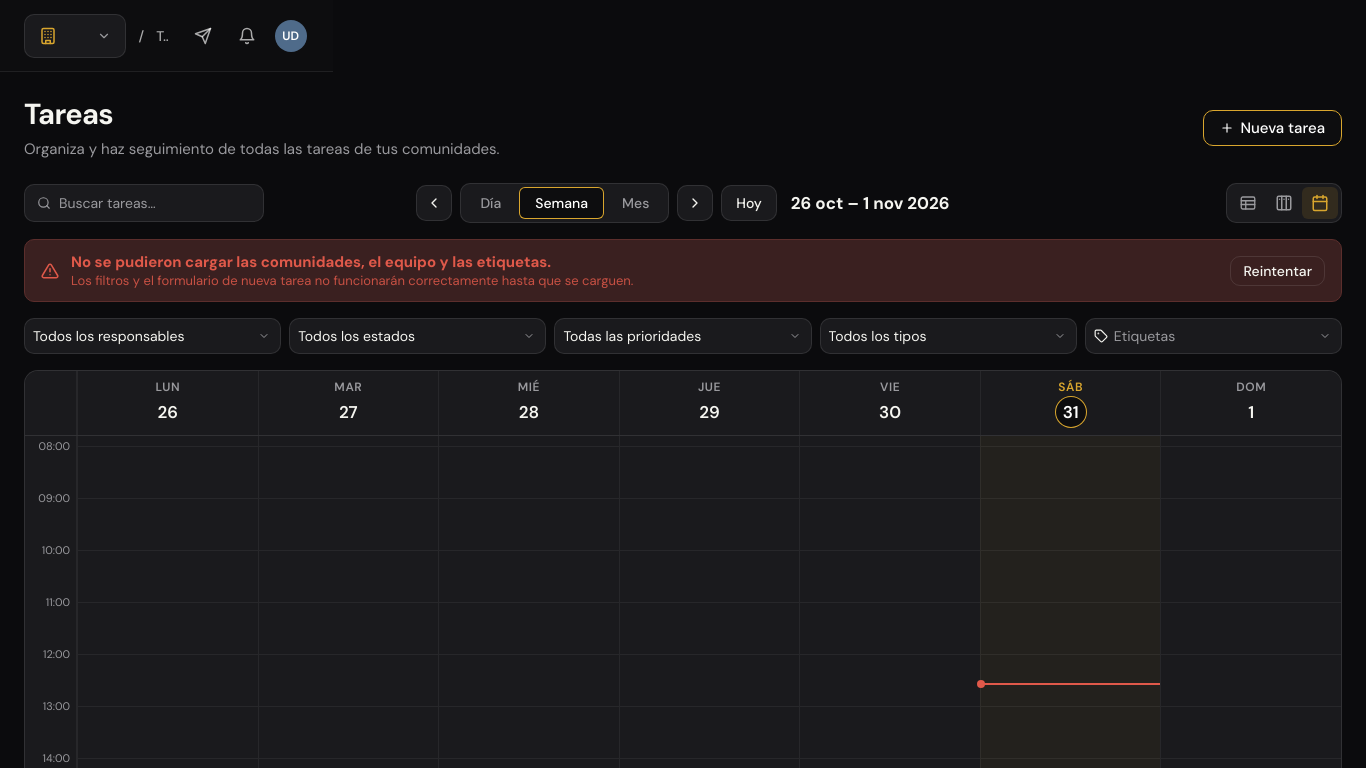
TasksComponent › estados de la interfaz › si fallan los catálogos (comunidades, equipo, etiquetas) se avisa con un botón de reintento
(page scrolled)
What coordinates should you click on to do the following:
click the button "Reintentar"
I would click on:
 (1278, 270)
Its box is [1230,256,1325,286].
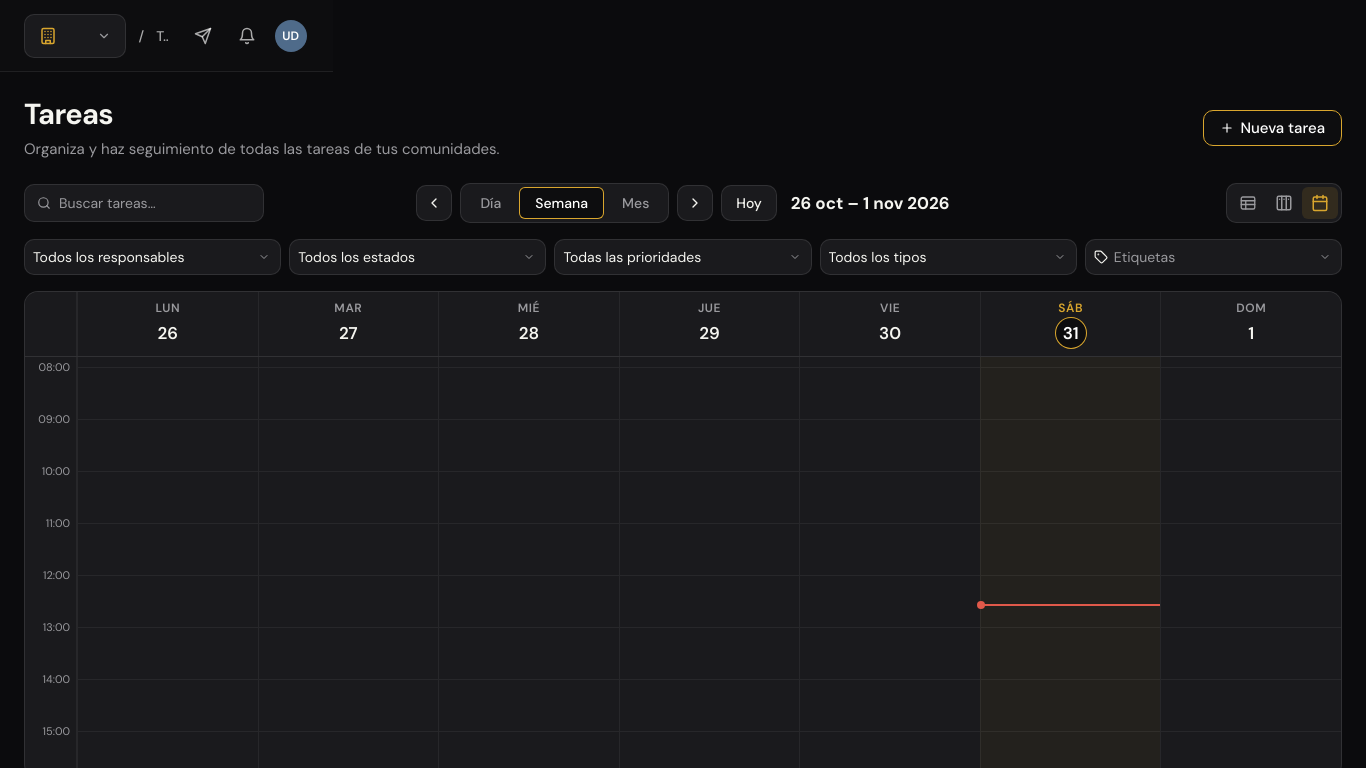
expect the text "No se pudieron cargar las comunidades" is gone: met
